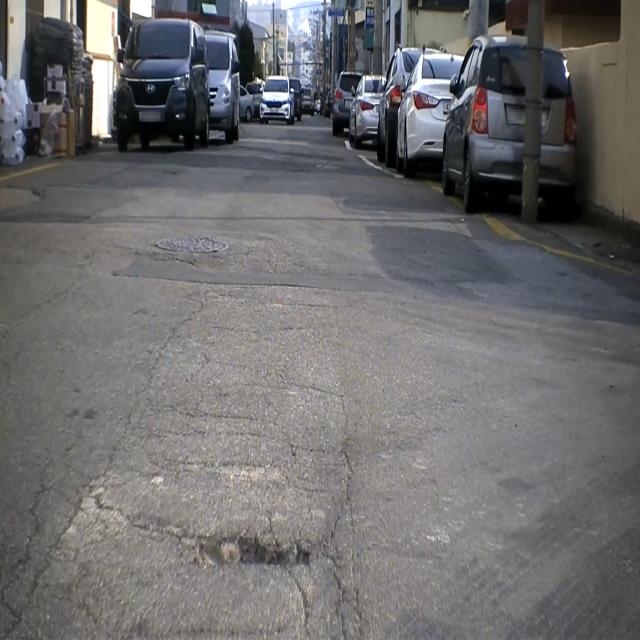Pothole: (172, 520, 317, 589)
